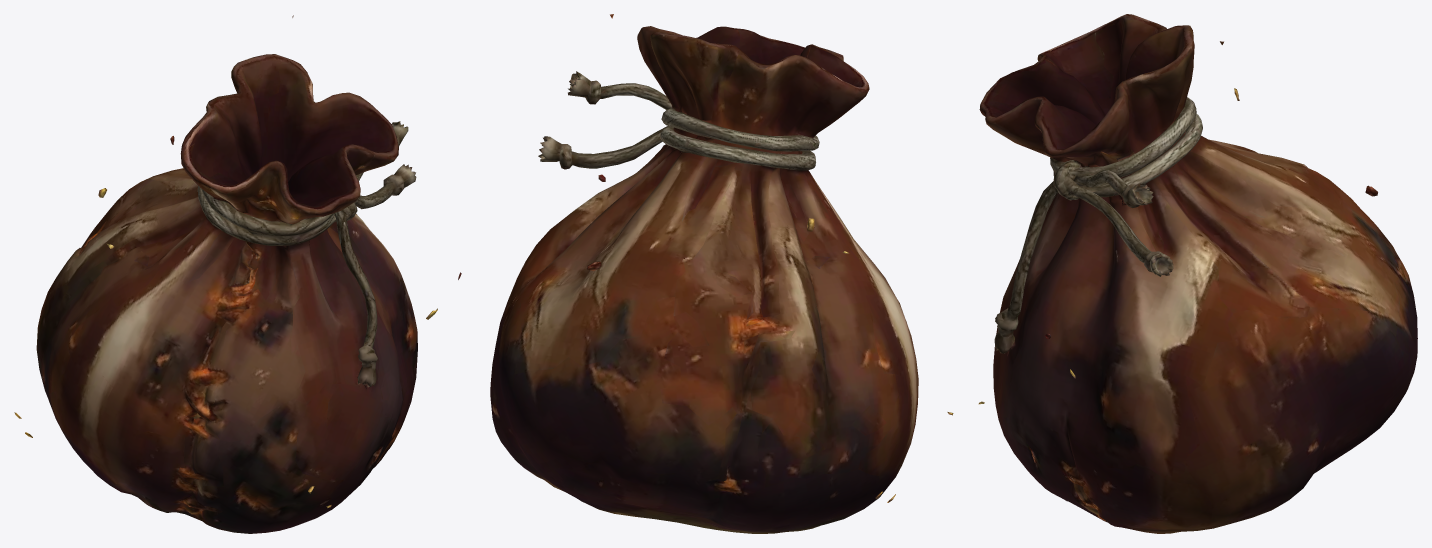
Rendered from bag.glb.
The picture shows the model from 3 angles, left to right: view 1: azimuth 30°, elevation 25°; view 2: azimuth 150°, elevation 25°; view 3: azimuth 270°, elevation 25°; orthographic projection. The views are drawn at different scales.
Parts seen in each view (by area): view 1: geometry_0; view 2: geometry_0; view 3: geometry_0.
Boxes of the visible parts, x1,y1,x2,y2 form: geometry_0: (14,15,461,533); geometry_0: (490,14,918,533); geometry_0: (947,14,1417,533).
Size of the model in its own units: 0.7792 by 0.9424 by 0.8063.
1 material, 1 textured.
